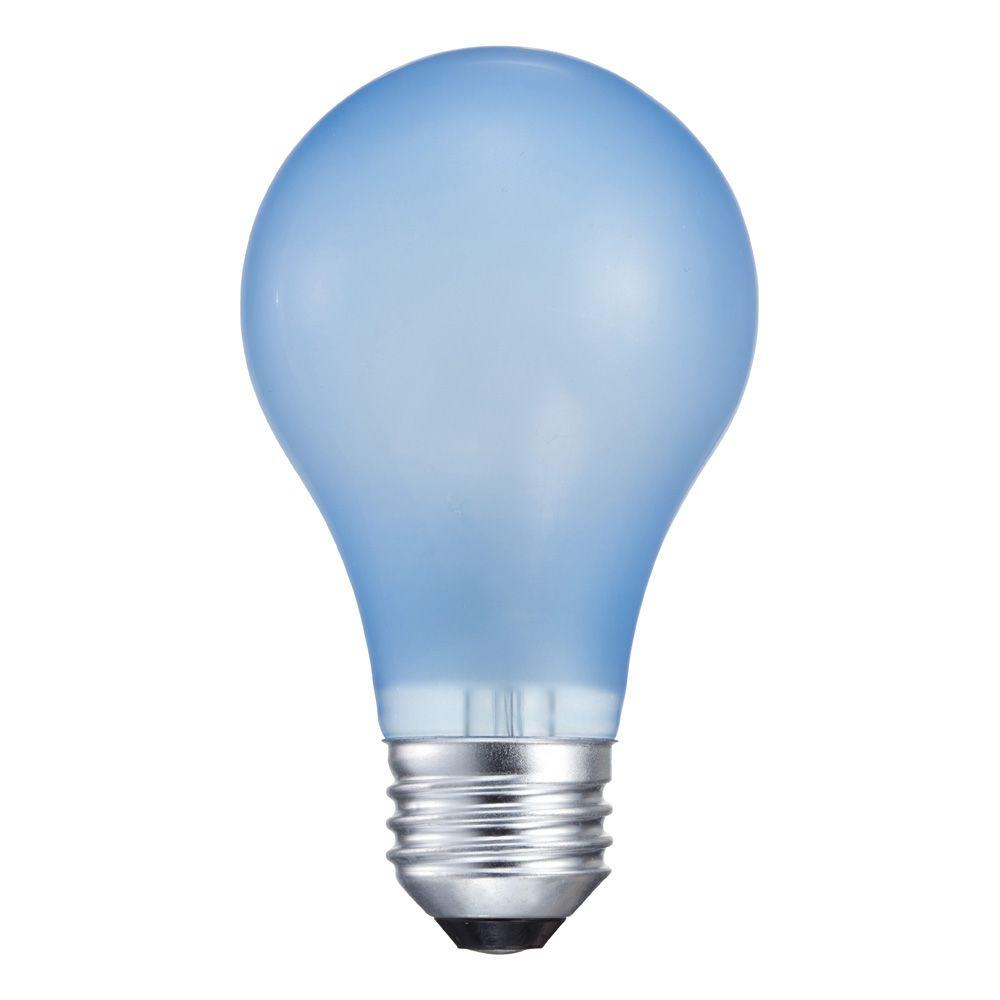Nonrec_Glass: (240, 24, 792, 943)
